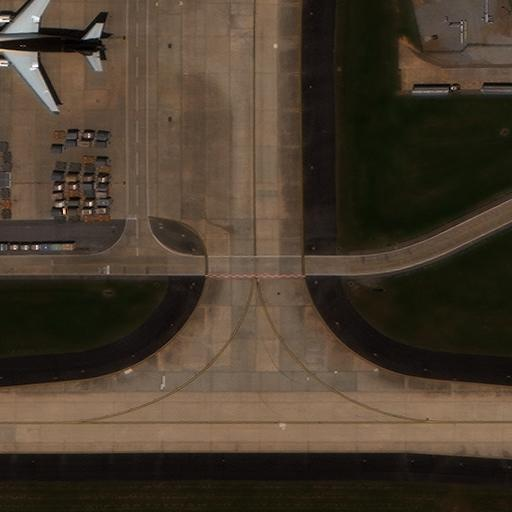Large Civil Transport: (0, 0, 111, 114)
